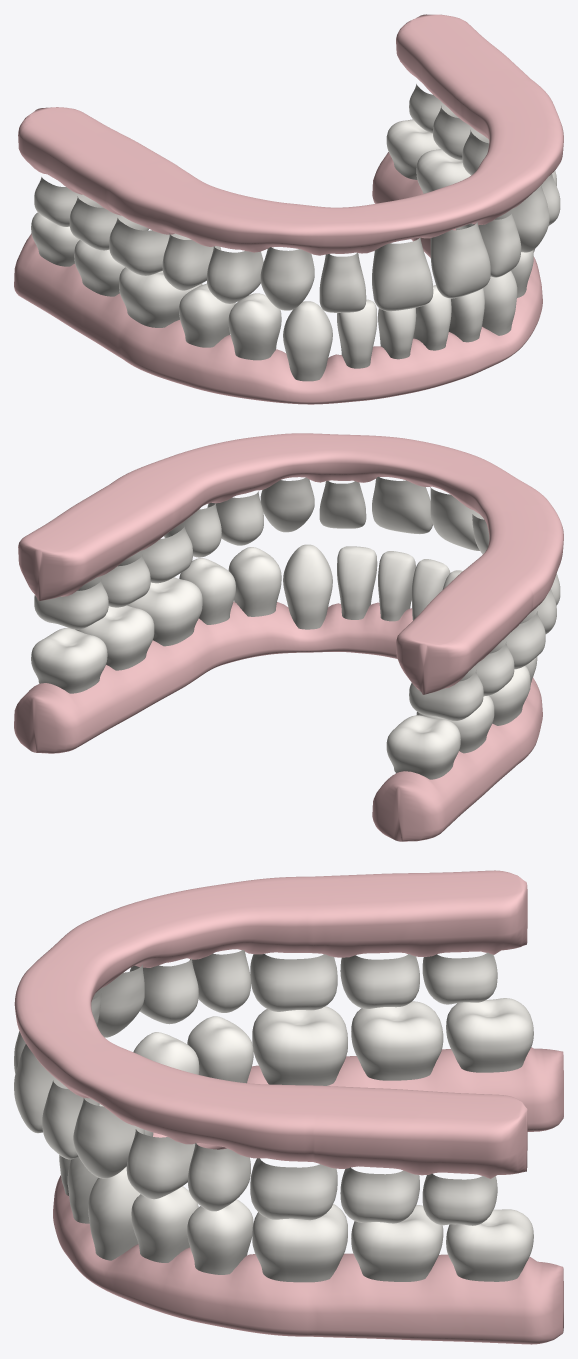
3 renders of one model, top to bottom at view 1: azimuth 30°, elevation 25°; view 2: azimuth 150°, elevation 25°; view 3: azimuth 270°, elevation 25°, orthographic. The views are drawn at different scales.
Parts seen in each view (by area): view 1: gums_upper, gums_lower, object 1, object 9, object 27, object 28, object 30, object 3, object 4, object 29, object 2, object 6 (+19 smaller); view 2: gums_upper, gums_lower, object 24, object 32, object 19, object 22, object 23, object 9, object 20, object 18, object 21, object 11 (+15 smaller); view 3: gums_upper, gums_lower, object 30, object 31, object 22, object 32, object 23, object 24, object 14, object 6, object 21, object 15 (+16 smaller).
Boxes of the visible parts, x1=… form: gums_upper: x1=18, y1=14, x2=563, y2=255; gums_lower: x1=14, y1=152, x2=542, y2=404; object 1: x1=372, y1=237, x2=433, y2=311; object 9: x1=430, y1=222, x2=490, y2=298; object 27: x1=283, y1=301, x2=332, y2=381; object 28: x1=228, y1=293, x2=281, y2=360; object 30: x1=119, y1=267, x2=202, y2=327; object 3: x1=260, y1=247, x2=314, y2=310; object 4: x1=207, y1=246, x2=263, y2=303; object 29: x1=179, y1=283, x2=235, y2=347; object 2: x1=319, y1=252, x2=366, y2=312; object 6: x1=109, y1=218, x2=191, y2=275; gums_upper: x1=18, y1=433, x2=563, y2=694; gums_lower: x1=14, y1=601, x2=542, y2=841; object 24: x1=31, y1=628, x2=107, y2=693; object 32: x1=386, y1=715, x2=460, y2=779; object 19: x1=283, y1=544, x2=332, y2=629; object 22: x1=127, y1=577, x2=202, y2=646; object 23: x1=75, y1=605, x2=154, y2=670; object 9: x1=372, y1=476, x2=432, y2=534; object 20: x1=228, y1=547, x2=281, y2=616; object 18: x1=337, y1=546, x2=377, y2=619; object 21: x1=179, y1=558, x2=235, y2=624; object 11: x1=260, y1=477, x2=314, y2=532; gums_upper: x1=14, y1=870, x2=527, y2=1178; gums_lower: x1=53, y1=1047, x2=563, y2=1344; object 30: x1=252, y1=1006, x2=347, y2=1085; object 31: x1=351, y1=1001, x2=443, y2=1080; object 22: x1=252, y1=1204, x2=347, y2=1282; object 32: x1=446, y1=998, x2=533, y2=1072; object 23: x1=351, y1=1205, x2=443, y2=1281; object 24: x1=446, y1=1209, x2=533, y2=1281; object 14: x1=250, y1=1158, x2=337, y2=1220; object 6: x1=250, y1=954, x2=337, y2=1011; object 21: x1=187, y1=1199, x2=253, y2=1274; object 15: x1=340, y1=1167, x2=419, y2=1223.
Size of the model in its own units: 72.39 by 29 by 63.45.
